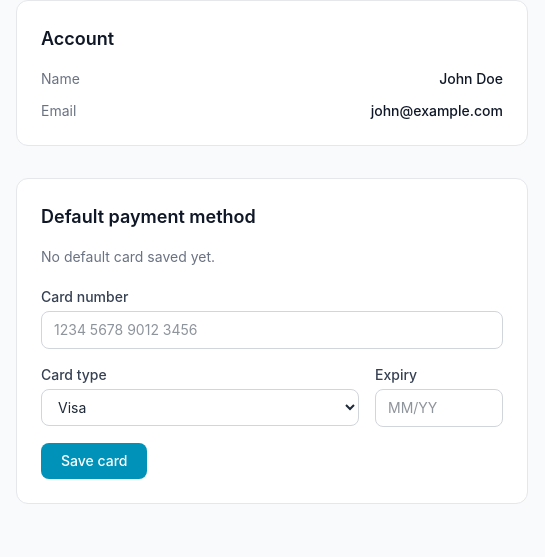
it: shows error message when save fails
Expected: the button "Save card" is shown, [41,443,148,479]
In the field labelled "Card number": (272, 330) [41,311,503,349], type "4111111111114242"
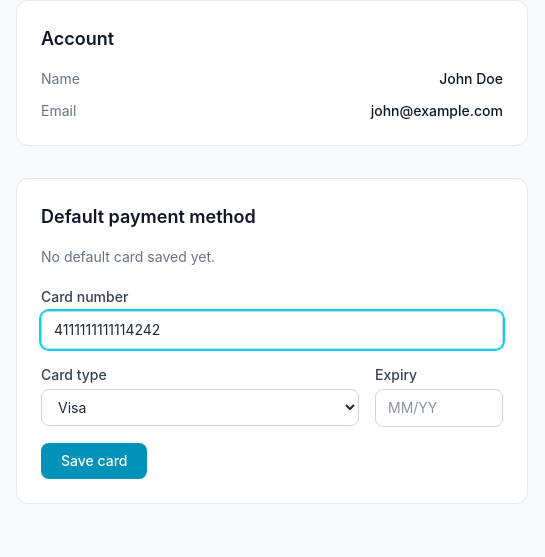
In the field labelled "Expiry": (439, 408) [375,389,503,427], type "12/29"
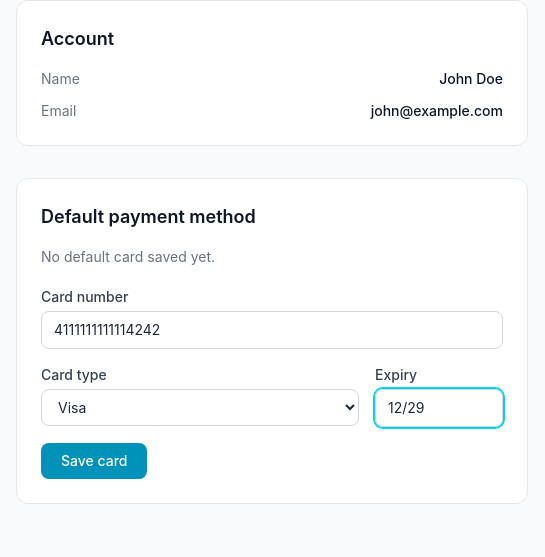
Click the button "Save card": click(94, 461) [41,443,148,479]
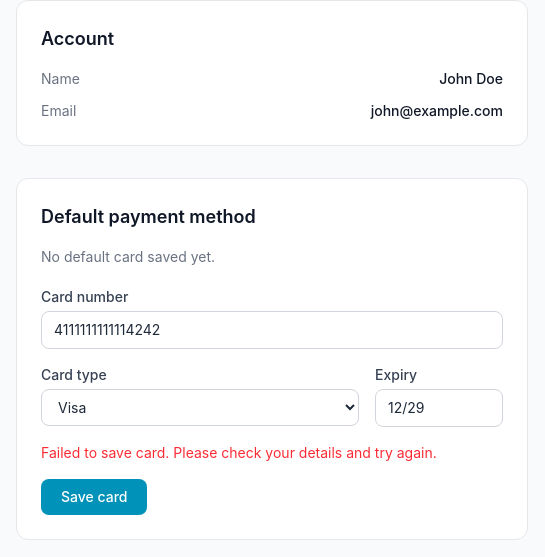
Result: the text "Failed to save card" is shown at [41,444,437,461]
